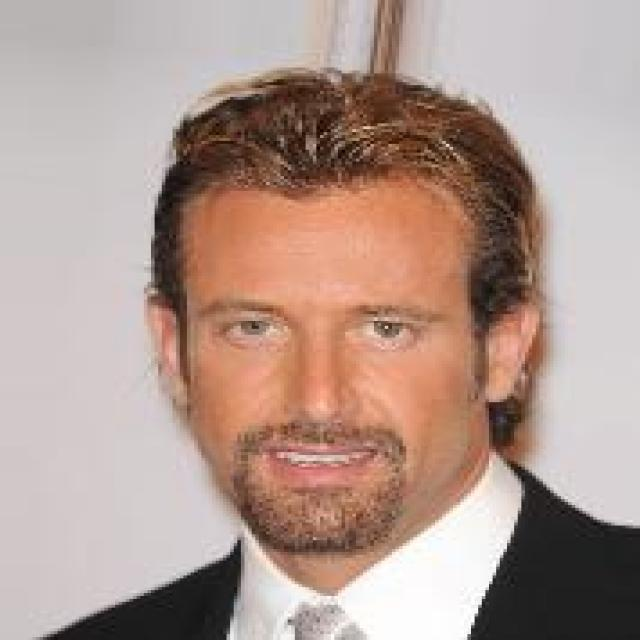bareface: (123, 168, 590, 560)
